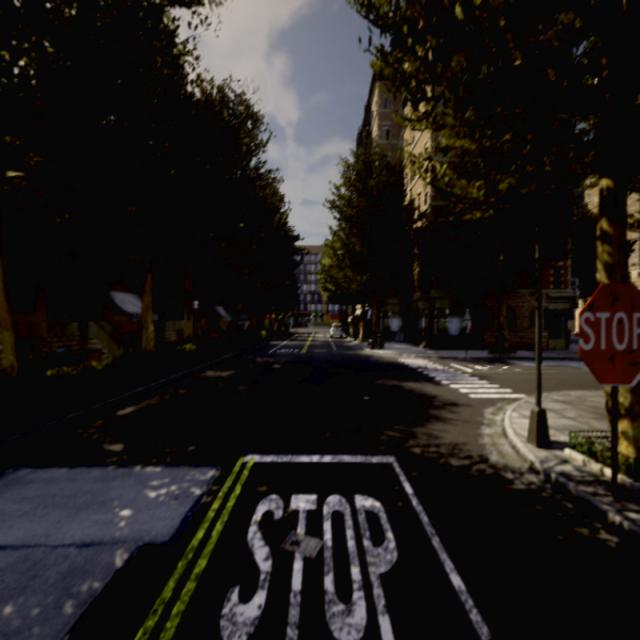stop sign: (574, 277, 640, 388), (578, 308, 640, 353)
